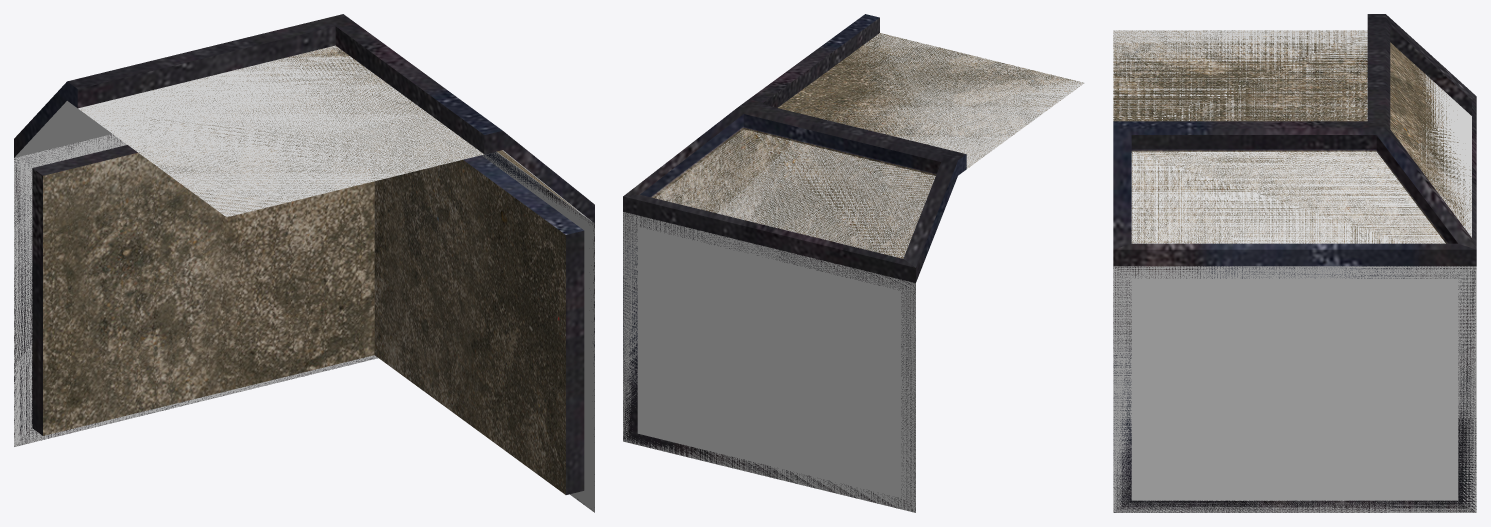
The model's file is угол 1.fbx.
3 views of the same model, side by side, from view 1: azimuth 30°, elevation 25°; view 2: azimuth 150°, elevation 25°; view 3: azimuth 270°, elevation 25° (orthographic). The views are drawn at different scales.
Parts seen in each view (by area): view 1: угол, Куб; view 2: Куб, угол; view 3: Куб, угол.
Part boxes in pixels (<box>): угол: <box>14,14,594,504</box>; Куб: <box>14,45,594,512</box>; Куб: <box>623,33,1084,512</box>; угол: <box>623,14,1083,512</box>; Куб: <box>1113,30,1476,512</box>; угол: <box>1113,14,1476,512</box>.
Size of the model in its own units: 400 by 420 by 400.
Materials: 1 (1 with a texture image).
